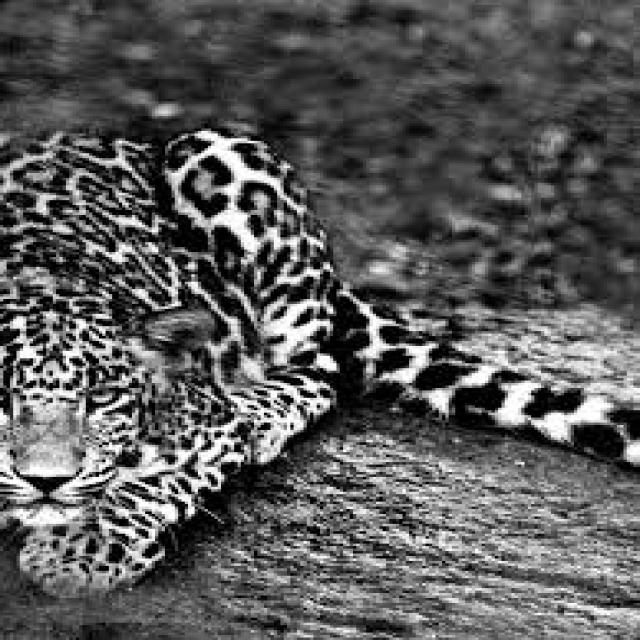Jaguar: (0, 121, 640, 578)
